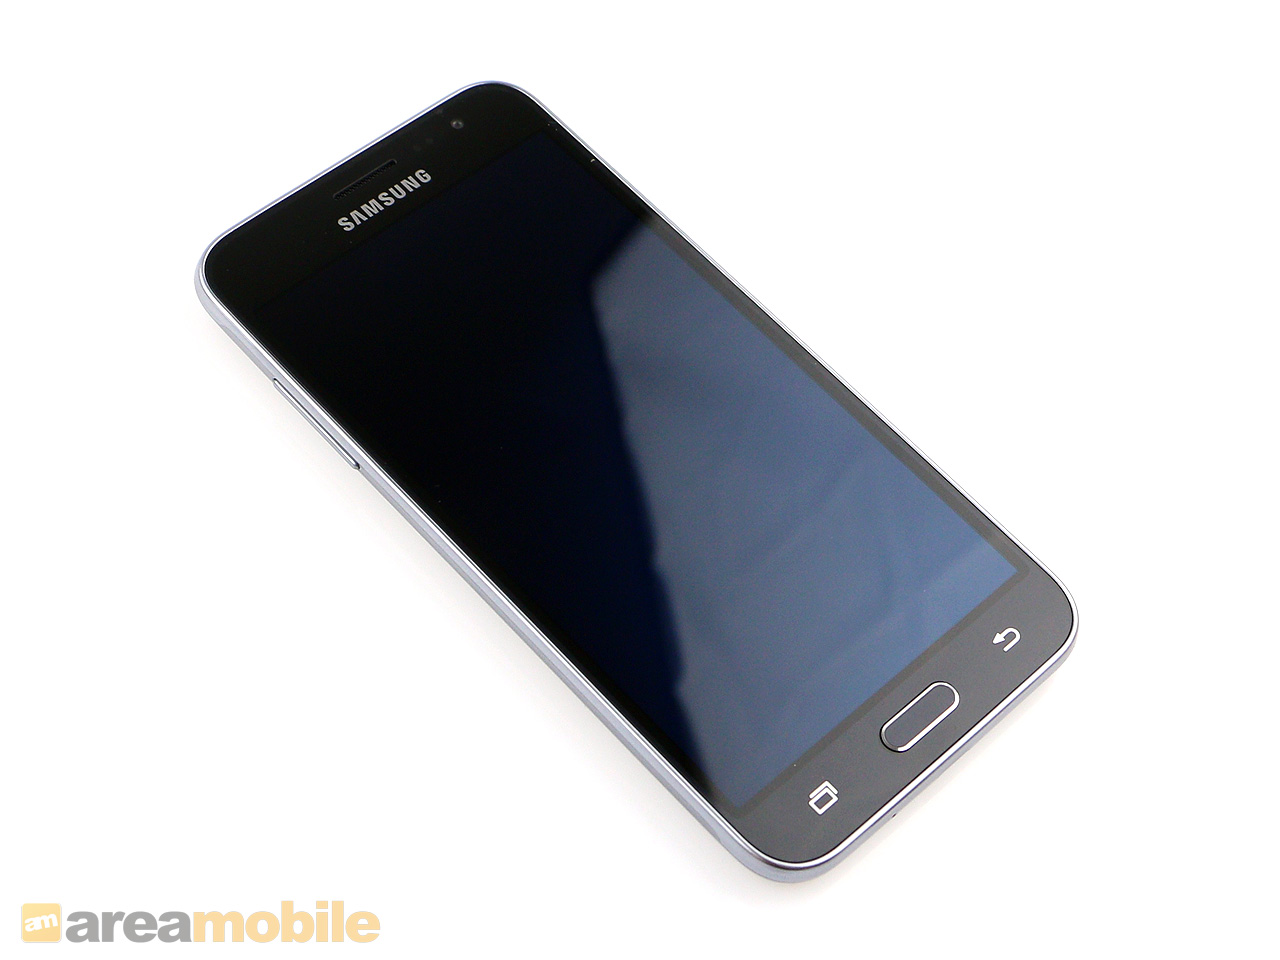smartphone: (193, 79, 1078, 882)
